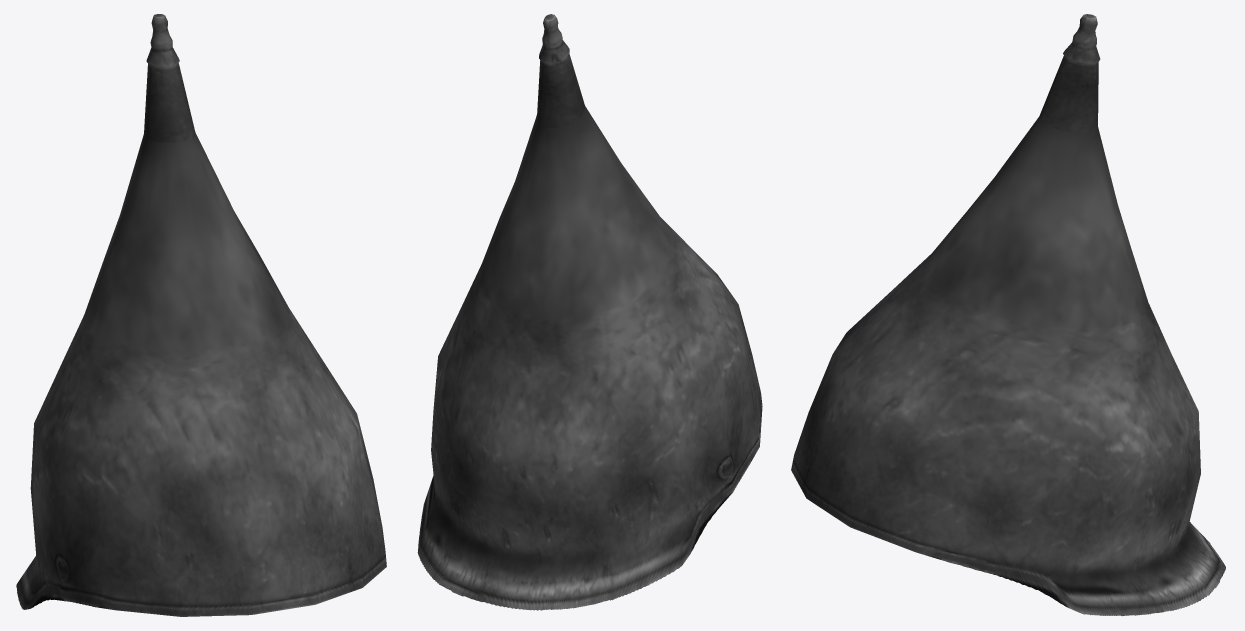
File: helmet_celt_berru.glb
3 views of the same model, side by side, from view 1: azimuth 30°, elevation 25°; view 2: azimuth 150°, elevation 25°; view 3: azimuth 270°, elevation 25° (orthographic). The views are drawn at different scales.
Visible parts, largest first — view 1: Helmet; view 2: Helmet; view 3: Helmet.
Boxes of the visible parts, x1=… form: Helmet: x1=16, y1=14, x2=386, y2=616; Helmet: x1=417, y1=14, x2=762, y2=610; Helmet: x1=791, y1=14, x2=1225, y2=616.
Bounding box in the file's own units: 0.1797 × 0.3449 × 0.2463.
Materials: 1 (1 with a texture image).
